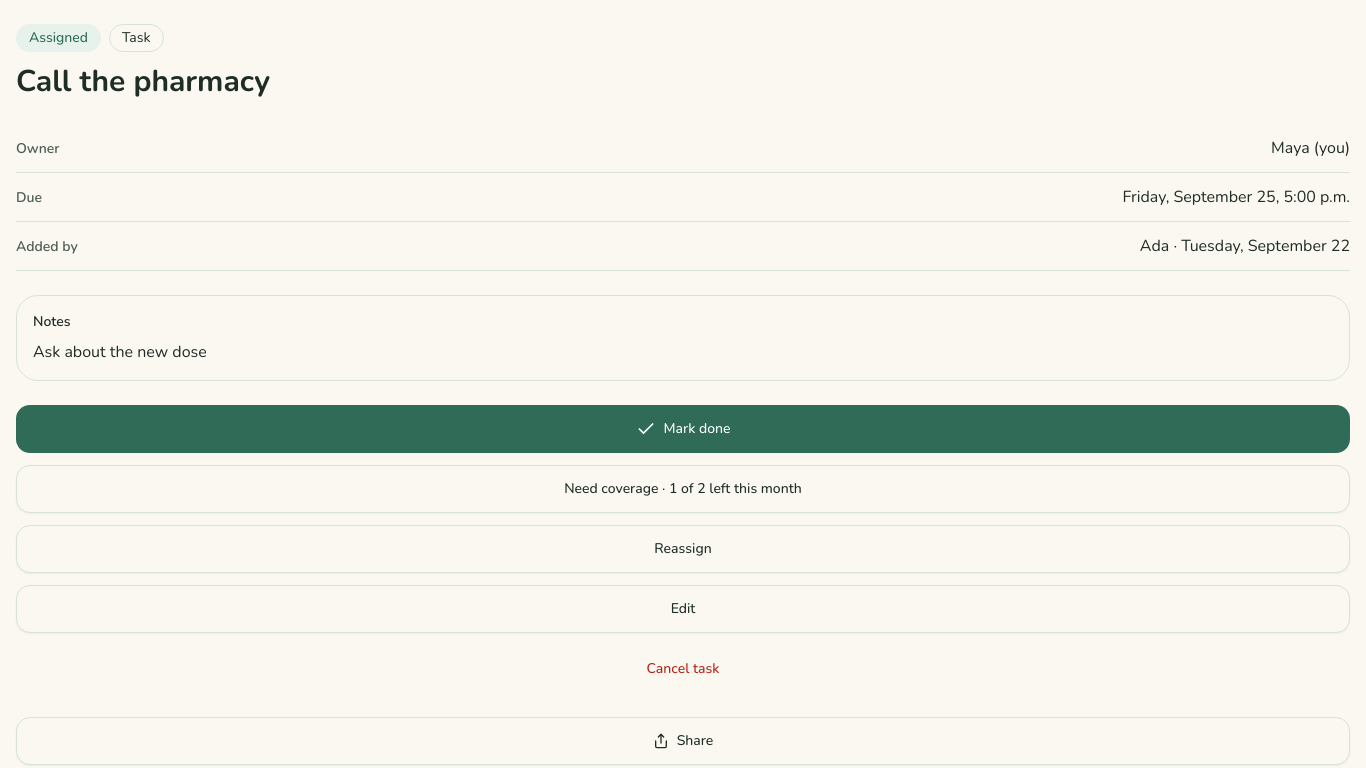
Test: if the limit is reached meanwhile, the sheet says so
Click the button "Need coverage · 1 of 2 left this month": [683, 488] box 16,464 -> 1350,512
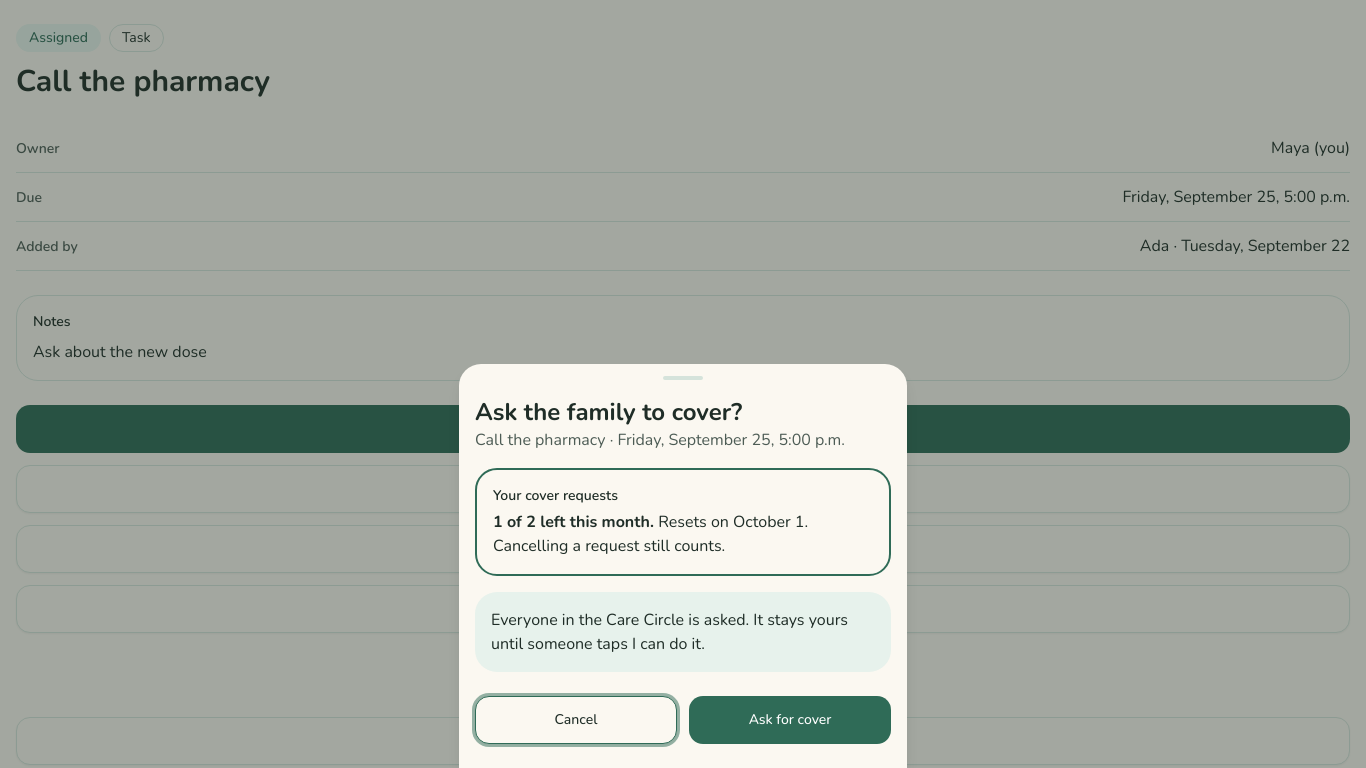
Click the button "Ask for cover": [790, 720] box 689,696 -> 891,744
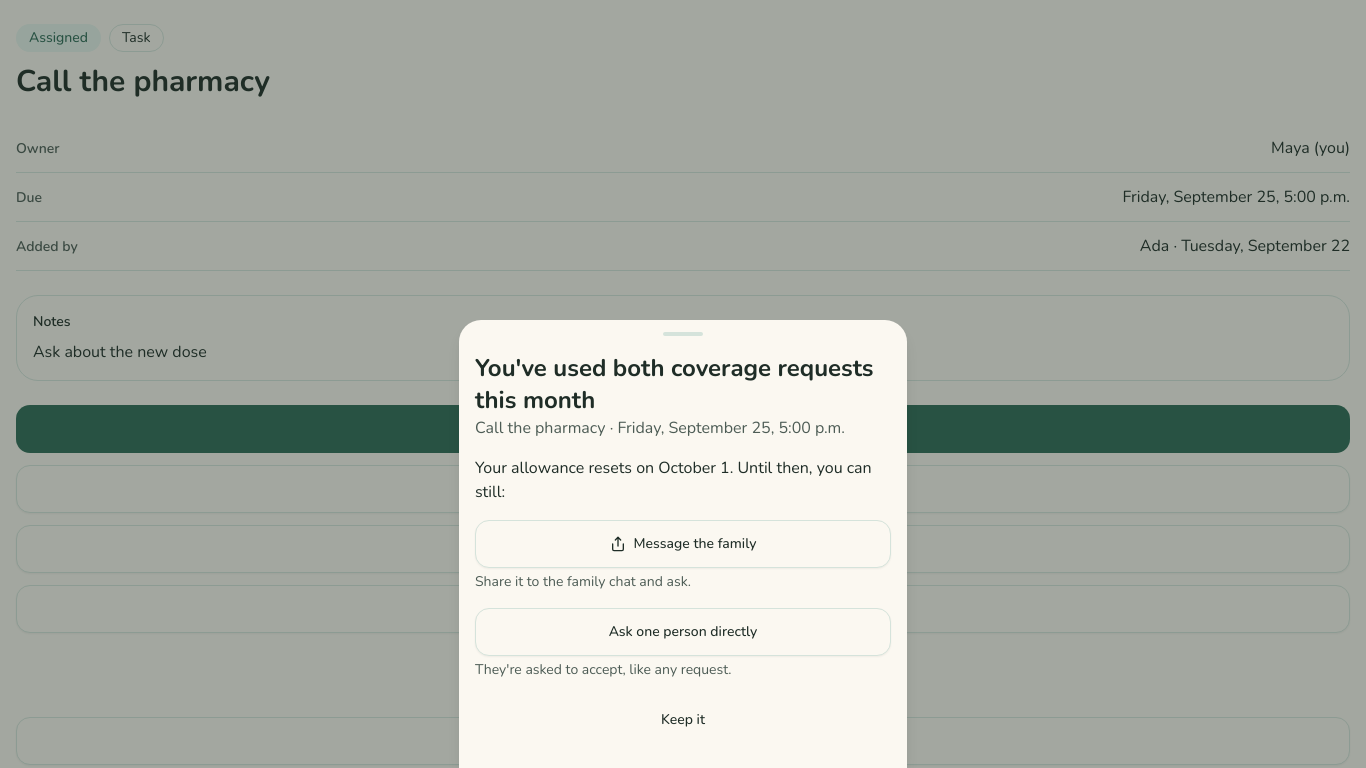
expect the dialog "You've used both coverage requests this month" is shown: met, box 459,320 -> 907,767
